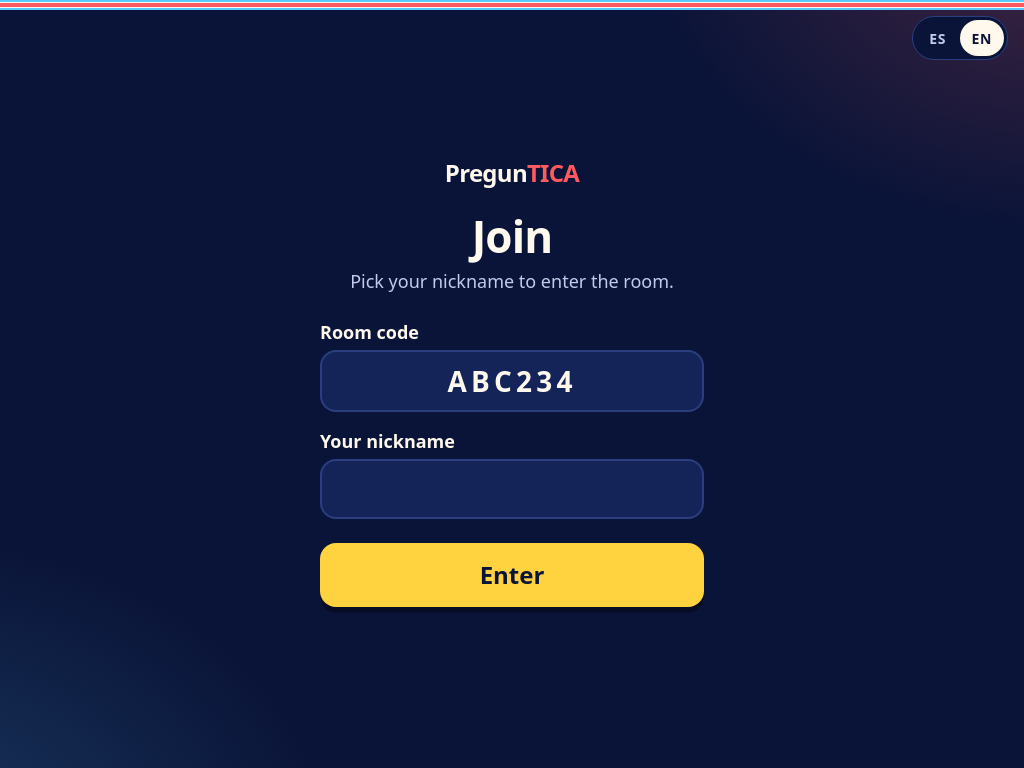
Test: PlayerPage in English › joins, plays and reads the results in English, with English numbers
Type "Tica" into the field labelled "Your nickname" at (512, 489), box [320,459,704,519]
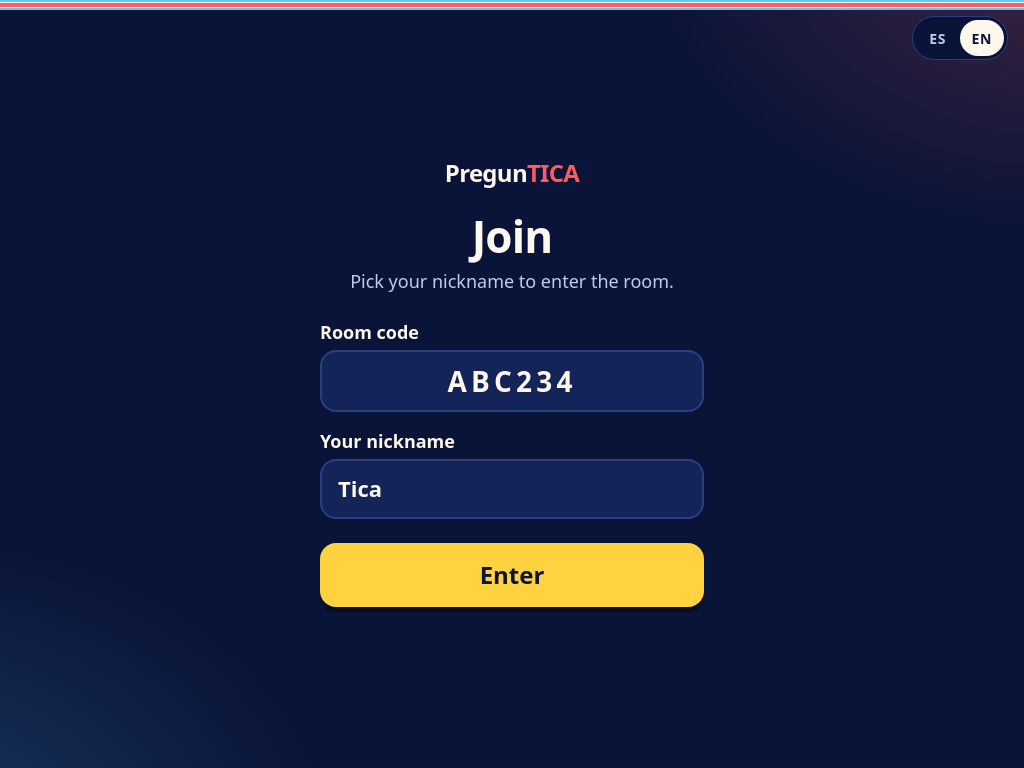
Click the button "Enter" at (512, 575), box [320,543,704,607]
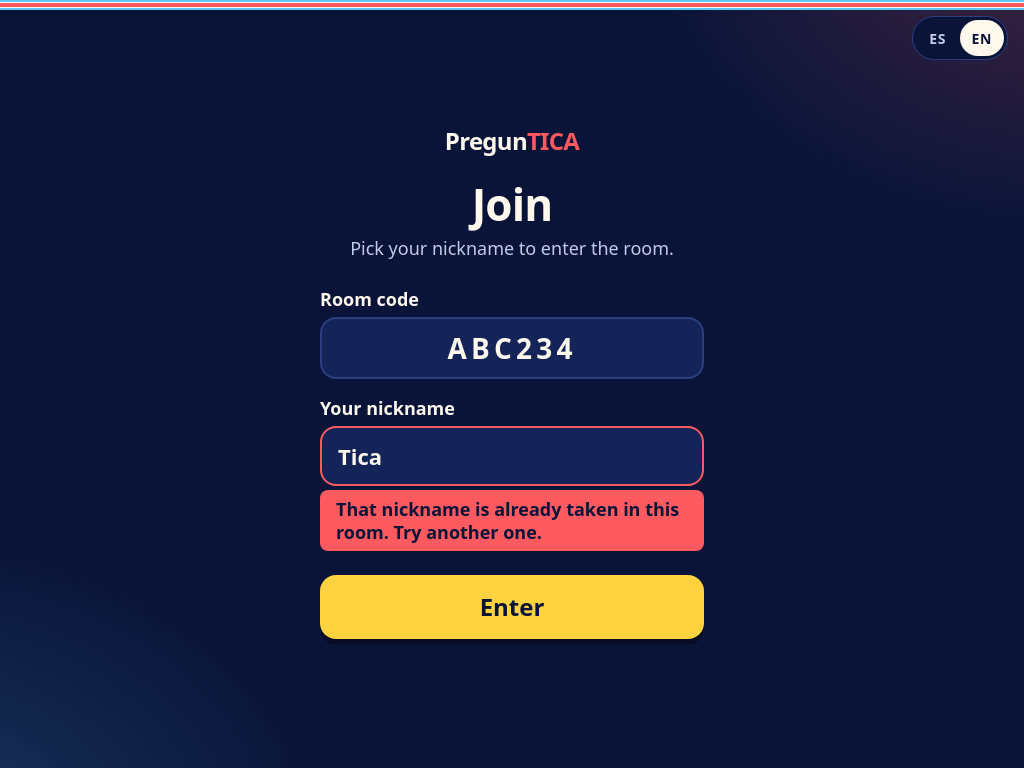
Expected: the message reads "That nickname is already taken in this room. Try another one.", [336,497,679,544]
Click the button "Enter" at (512, 607), box [320,575,704,639]
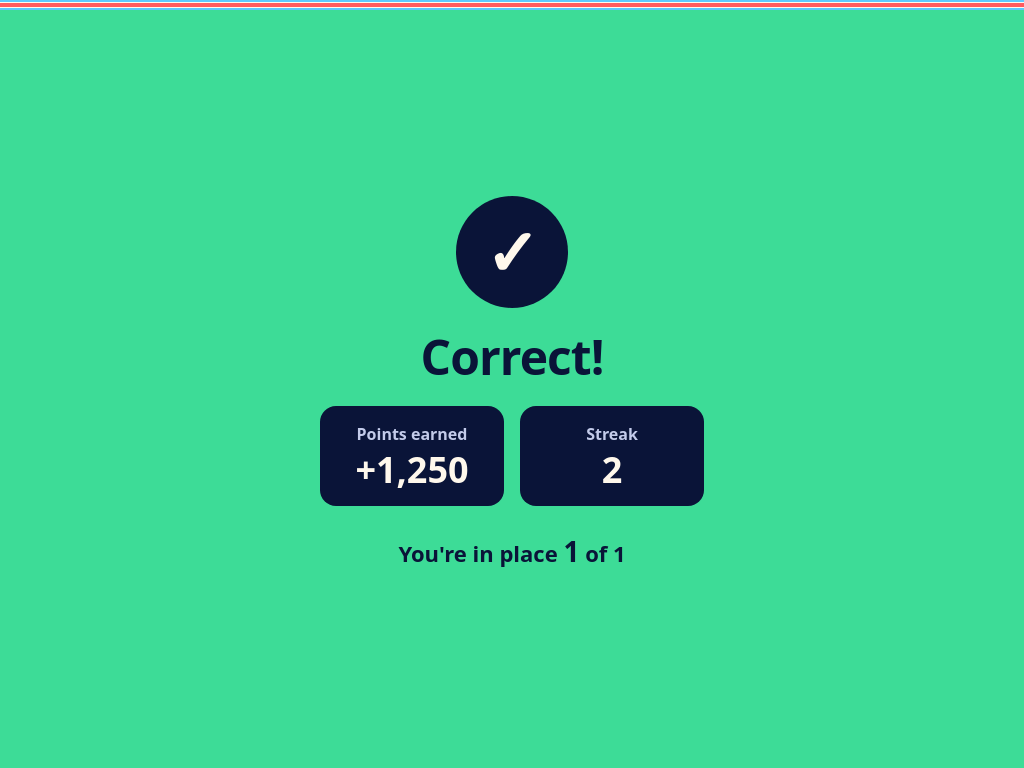
Expected: the heading "Correct!" is shown, [421,332,603,382]
Expected: the text "+1,250" is shown, [355,445,469,494]
Expected: the text "You're in place 1 of 1" is shown, [398,530,626,572]
